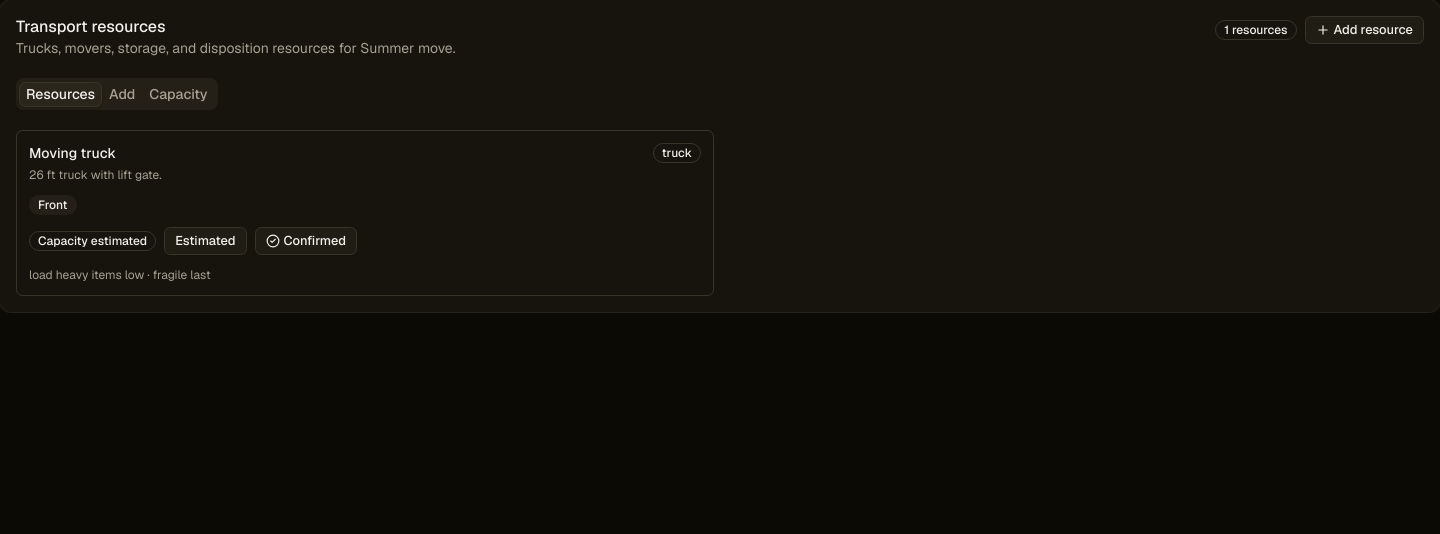
TransportResourcesPanel › opens on transport resources before setup and capacity review
The image size is (1440, 534).
expect the text "Moving truck" is shown: met, box left=29, top=144, right=116, bottom=162
expect the text "1 resources" is shown: met, box left=1215, top=20, right=1297, bottom=40
Click the button "Add resource": click(1364, 30) left=1304, top=16, right=1424, bottom=44
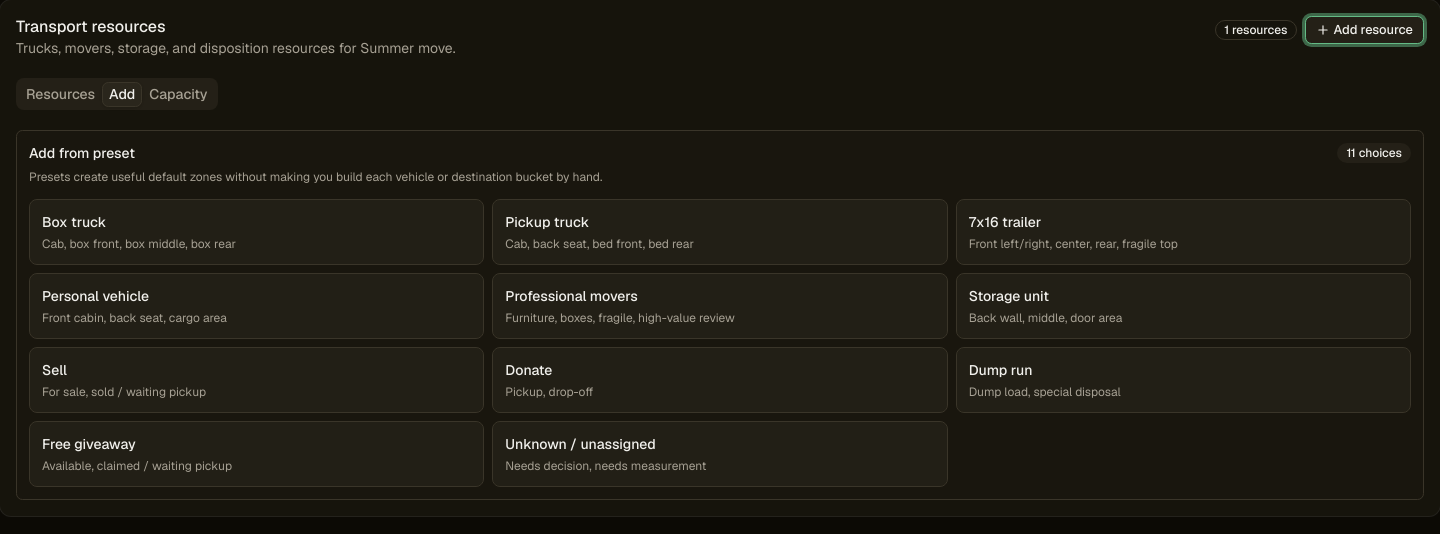
expect the text "Moving truck" is gone: met
expect the text "Add from preset" is shown: met, box left=29, top=144, right=135, bottom=162
expect the text "Box truck" is shown: met, box left=42, top=213, right=106, bottom=231
